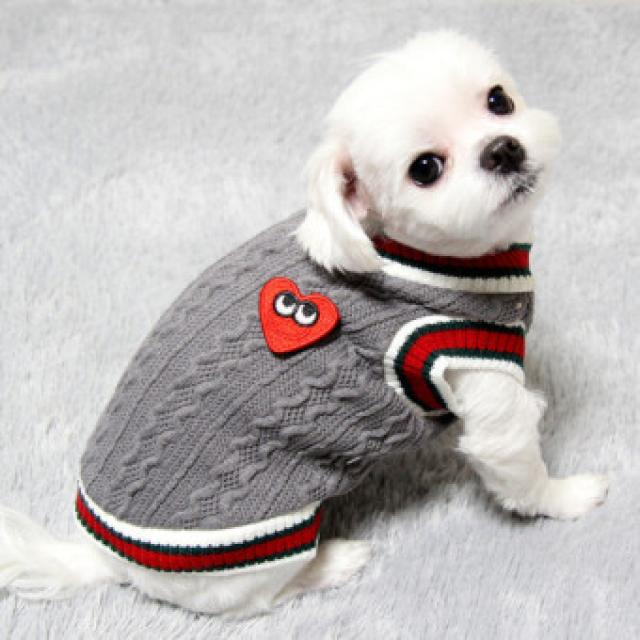cloth: (78, 212, 532, 571)
